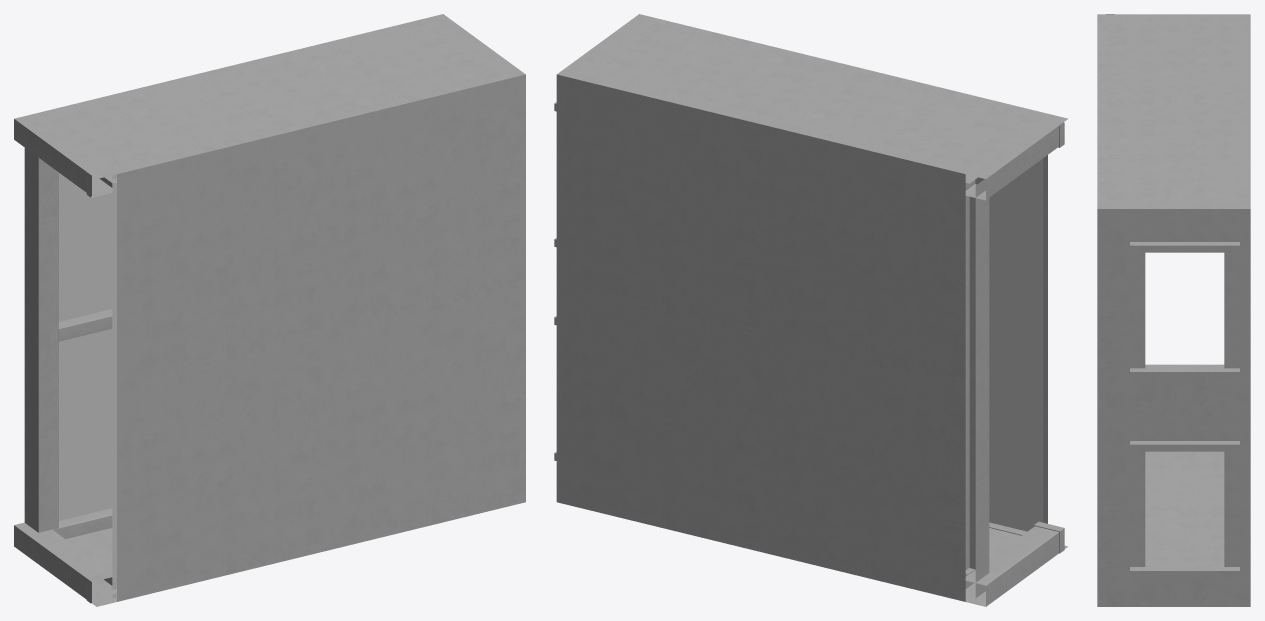
File: ClassroomMesh_1000.fbx
3 views of the same model, side by side, from view 1: azimuth 30°, elevation 25°; view 2: azimuth 150°, elevation 25°; view 3: azimuth 270°, elevation 25° (orthographic). The views are drawn at different scales.
Visible parts, largest first — view 1: SM_ClassroomMesh_01_1000_LOD0; view 2: SM_ClassroomMesh_01_1000_LOD0; view 3: SM_ClassroomMesh_01_1000_LOD0.
Boxes of the visible parts, x1,y1,x2,y2 form: SM_ClassroomMesh_01_1000_LOD0: (14,14,525,606); SM_ClassroomMesh_01_1000_LOD0: (554,14,1067,606); SM_ClassroomMesh_01_1000_LOD0: (1097,14,1250,606).
Size of the model in its own units: 10.72 by 10 by 3.5.
